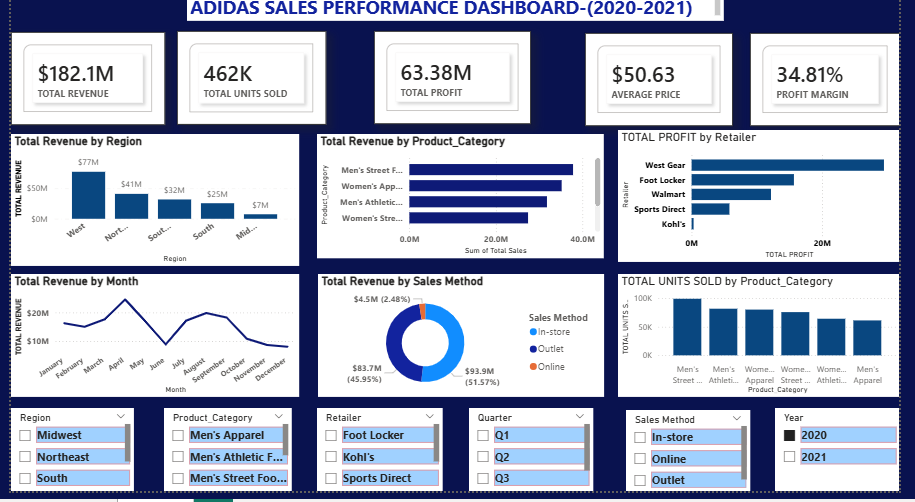

The page's visual inventory and layout, read from the dashboard file:
{"tool":"powerbi","page":{"name":"Page 1","canvas":[1280,720],"ordinal":0},"visuals":[{"type":"cardVisual","fields":{"Data":["ADIDAS SALES ANALYSIS.PROFIT MARGIN"]},"box":[1064.2,60.5,216,133.9],"z":0},{"type":"cardVisual","fields":{"Data":["ADIDAS SALES ANALYSIS.AVEARGE PRICE"]},"box":[826.6,60.5,213.1,133.9],"z":1000},{"type":"cardVisual","fields":{"Data":["ADIDAS SALES ANALYSIS.TOTAL PROFIT"]},"box":[522.7,57.6,226.1,133.9],"z":2000},{"type":"cardVisual","fields":{"Data":["ADIDAS SALES ANALYSIS.TOTAL REVENUE"]},"box":[0,59,221.8,133.9],"z":3000},{"type":"cardVisual","fields":{"Data":["ADIDAS SALES ANALYSIS.TOTAL UNITS SOLD"]},"box":[239,57.6,214.6,135.4],"z":4000},{"type":"slicer","fields":{"Values":["ADIDAS SALES ANALYSIS.Region"]},"box":[0,600.5,177.1,119.5],"z":5000},{"type":"slicer","fields":{"Values":["ADIDAS SALES ANALYSIS.Product_Category"]},"box":[220.3,600.5,184.3,119.5],"z":6000},{"type":"slicer","fields":{"Values":["ADIDAS SALES ANALYSIS.Retailer"]},"box":[440.6,600.5,181.4,119.5],"z":7000},{"type":"slicer","fields":{"Values":["ADIDAS SALES ANALYSIS.Quarter"]},"box":[659.5,600.5,178.6,119.5],"z":8000},{"type":"slicer","fields":{"Values":["ADIDAS SALES ANALYSIS.Sales Method"]},"box":[885.6,603.4,178.6,116.6],"z":9000},{"type":"slicer","fields":{"Values":["ADIDAS SALES ANALYSIS.Year"]},"box":[1100.2,600.5,180,119.5],"z":10000},{"type":"clusteredColumnChart","title":"Total  Revenue by Region","fields":{"Category":["ADIDAS SALES ANALYSIS.Region"],"Y":["ADIDAS SALES ANALYSIS.TOTAL REVENUE"]},"box":[0,205.9,414.7,190.1],"z":11000},{"type":"clusteredBarChart","title":"Total Revenue by Product_Category","fields":{"Y":["Sum(ADIDAS SALES ANALYSIS.Total Sales)"],"Category":["ADIDAS SALES ANALYSIS.Product_Category"]},"box":[440.6,205.9,413.3,178.6],"z":12000},{"type":"barChart","fields":{"Category":["ADIDAS SALES ANALYSIS.Retailer"],"Y":["ADIDAS SALES ANALYSIS.TOTAL PROFIT"]},"box":[874.1,200.2,406.1,190.1],"z":13000},{"type":"textbox","box":[253.4,0,773.3,43.2],"z":14000},{"type":"lineChart","title":"Total  Revenue by Month","fields":{"Y":["ADIDAS SALES ANALYSIS.TOTAL REVENUE"],"Category":["ADIDAS SALES ANALYSIS.YEAR_MONTH.Variation.Date Hierarchy.Month"]},"box":[0,407.5,414.7,177.1],"z":15000},{"type":"donutChart","title":"Total  Revenue by Sales Method","fields":{"Category":["ADIDAS SALES ANALYSIS.Sales Method"],"Y":["ADIDAS SALES ANALYSIS.TOTAL REVENUE"]},"box":[442.1,407.5,411.8,177.1],"z":16000},{"type":"clusteredColumnChart","fields":{"Category":["ADIDAS SALES ANALYSIS.Product_Category"],"Y":["ADIDAS SALES ANALYSIS.TOTAL UNITS SOLD"]},"box":[874.1,407.5,406.1,177.1],"z":17000}]}

Visuals, with their boxes in screenshot pixels (x1, y1, x2, y2), scaled from the page's 1280x720 canvas onto the 915x502 screenshot:
cardVisual - ADIDAS SALES ANALYSIS.PROFIT MARGIN: (761, 42, 914, 136)
cardVisual - ADIDAS SALES ANALYSIS.AVEARGE PRICE: (591, 42, 743, 136)
cardVisual - ADIDAS SALES ANALYSIS.TOTAL PROFIT: (374, 40, 535, 134)
cardVisual - ADIDAS SALES ANALYSIS.TOTAL REVENUE: (0, 41, 159, 134)
cardVisual - ADIDAS SALES ANALYSIS.TOTAL UNITS SOLD: (171, 40, 324, 135)
slicer - ADIDAS SALES ANALYSIS.Region: (0, 419, 127, 501)
slicer - ADIDAS SALES ANALYSIS.Product_Category: (157, 419, 289, 501)
slicer - ADIDAS SALES ANALYSIS.Retailer: (315, 419, 445, 501)
slicer - ADIDAS SALES ANALYSIS.Quarter: (471, 419, 599, 501)
slicer - ADIDAS SALES ANALYSIS.Sales Method: (633, 421, 761, 501)
slicer - ADIDAS SALES ANALYSIS.Year: (786, 419, 914, 501)
"Total  Revenue by Region" clusteredColumnChart: (0, 144, 296, 276)
"Total Revenue by Product_Category" clusteredBarChart: (315, 144, 610, 268)
barChart - ADIDAS SALES ANALYSIS.Retailer x ADIDAS SALES ANALYSIS.TOTAL PROFIT: (625, 140, 914, 272)
textbox: (181, 0, 734, 30)
"Total  Revenue by Month" lineChart: (0, 284, 296, 408)
"Total  Revenue by Sales Method" donutChart: (316, 284, 610, 408)
clusteredColumnChart - ADIDAS SALES ANALYSIS.Product_Category x ADIDAS SALES ANALYSIS.TOTAL UNITS SOLD: (625, 284, 914, 408)
